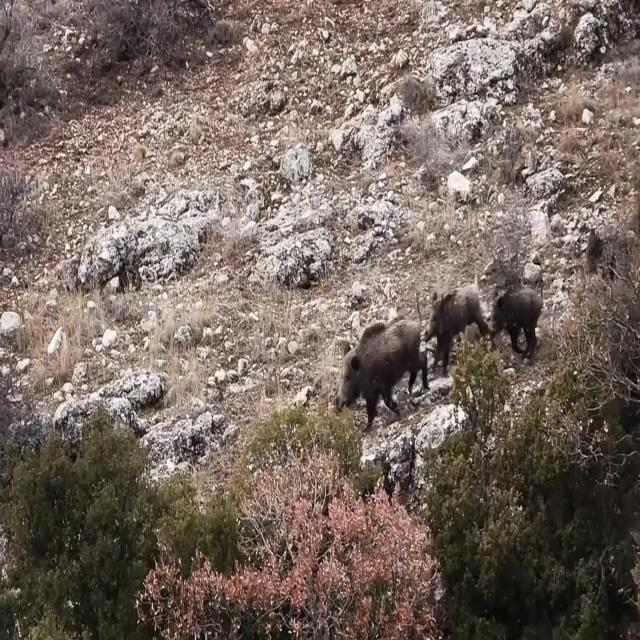pig: (335, 312, 436, 432), (426, 272, 492, 372), (485, 276, 546, 363)
